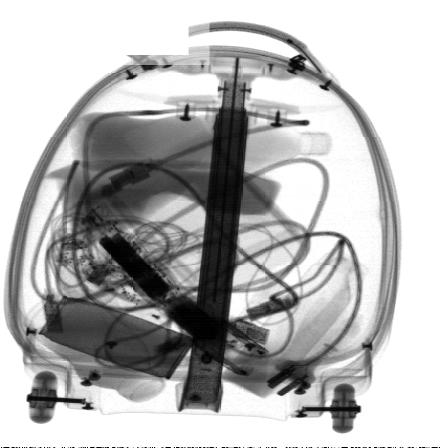Baton: (70, 202, 269, 378)
